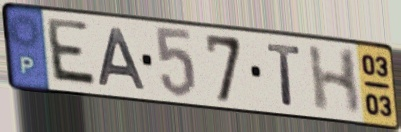5: (151, 26, 199, 103)
7: (204, 31, 244, 106)
A: (96, 26, 150, 93)
E: (46, 15, 100, 91)
H: (305, 44, 362, 117)
T: (264, 40, 304, 109)
